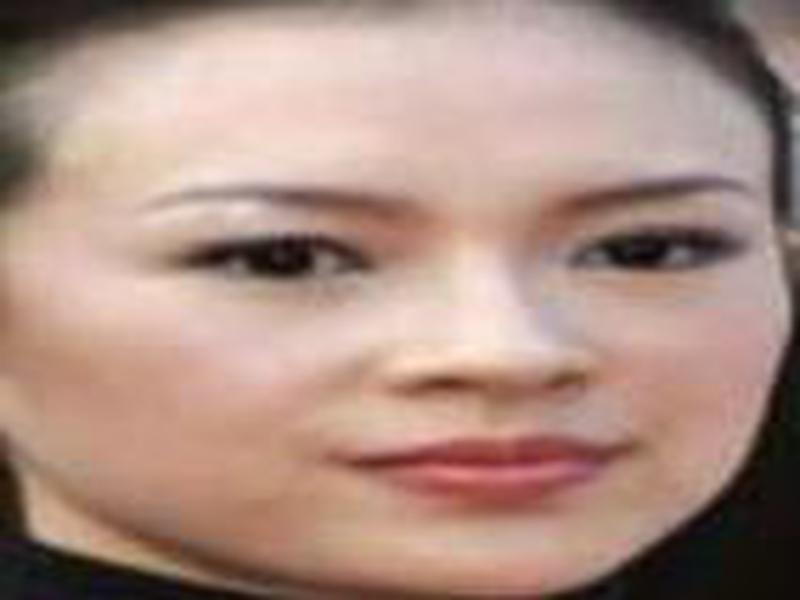without_mask: (48, 31, 785, 591)
